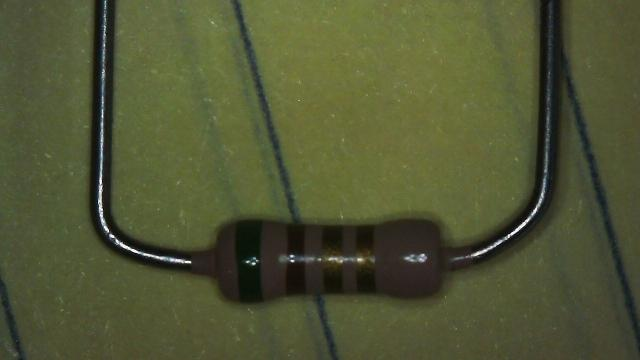brown: (286, 225, 306, 294)
gold: (322, 225, 342, 294), (355, 225, 374, 294)
green: (235, 219, 264, 302)
resistor: (184, 202, 470, 321)
